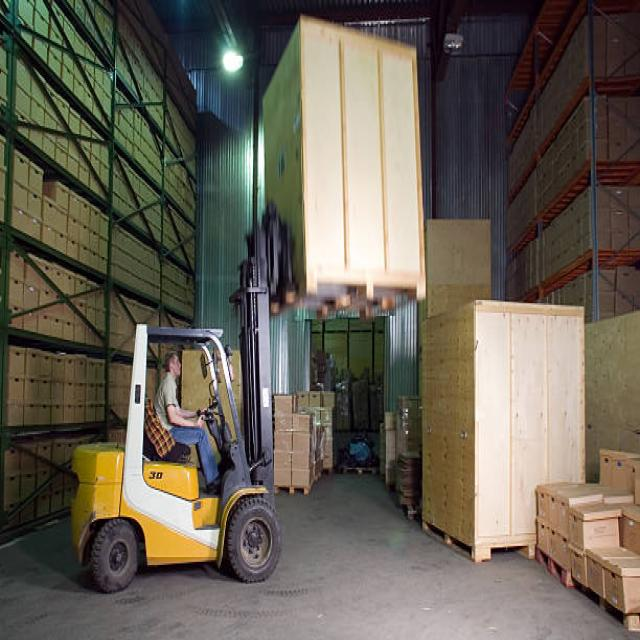Wooden-Pallets: (406, 511, 539, 577)
